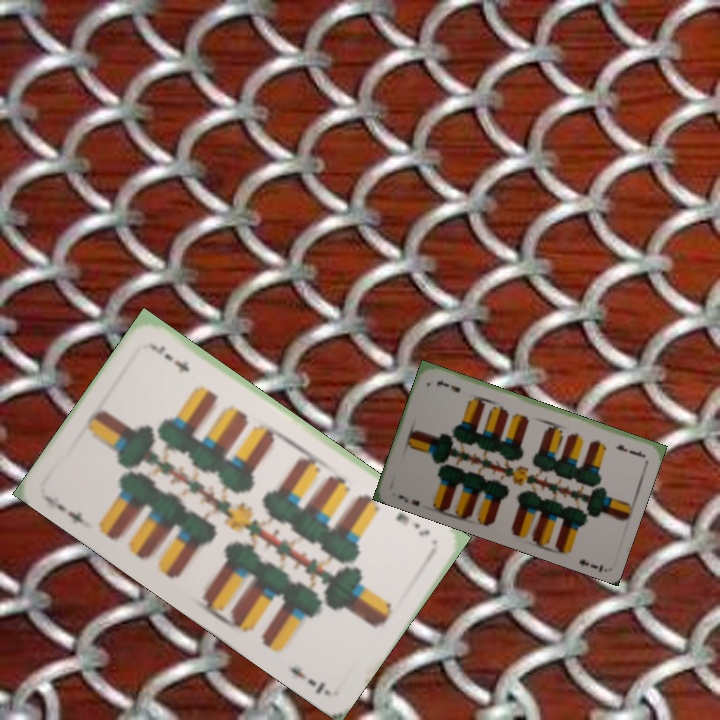E7: (391, 508, 433, 540), (51, 499, 87, 527), (611, 440, 647, 460), (394, 491, 422, 509)
